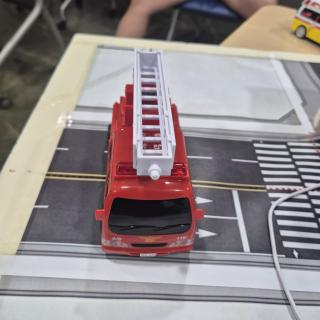Fire_truck: (95, 49, 204, 257)
